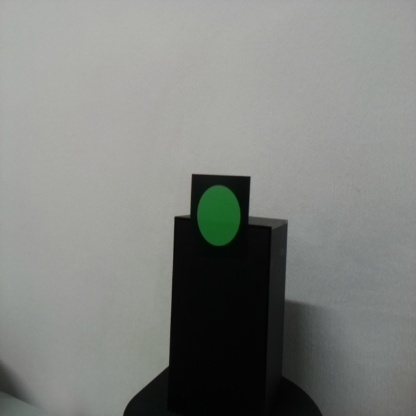id_5: (192, 175, 250, 256)
